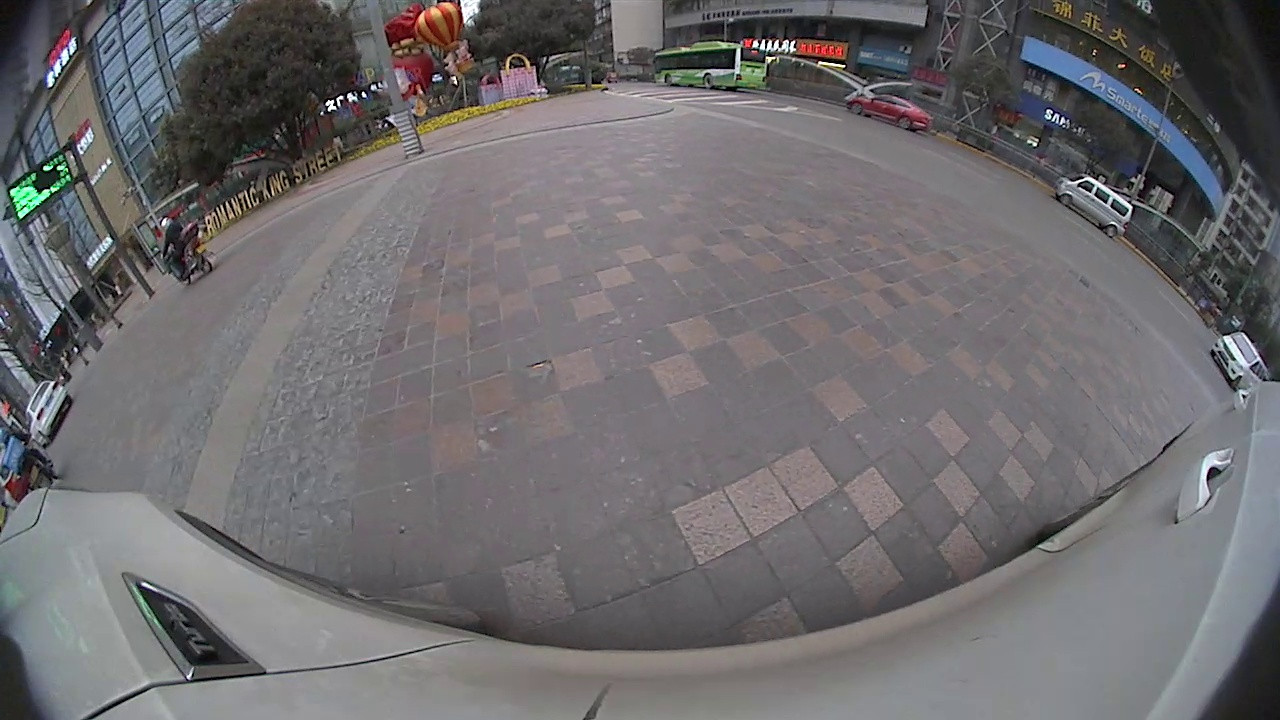bus: (653, 45, 769, 88)
car: (1057, 176, 1132, 237), (845, 93, 934, 135), (1211, 331, 1269, 391), (25, 378, 76, 444)
front: (847, 98, 865, 119), (1059, 193, 1075, 210), (661, 73, 676, 87)
rear: (896, 113, 914, 132), (700, 73, 716, 91), (1105, 222, 1120, 240)
rider: (155, 214, 219, 282), (1, 439, 57, 503)
